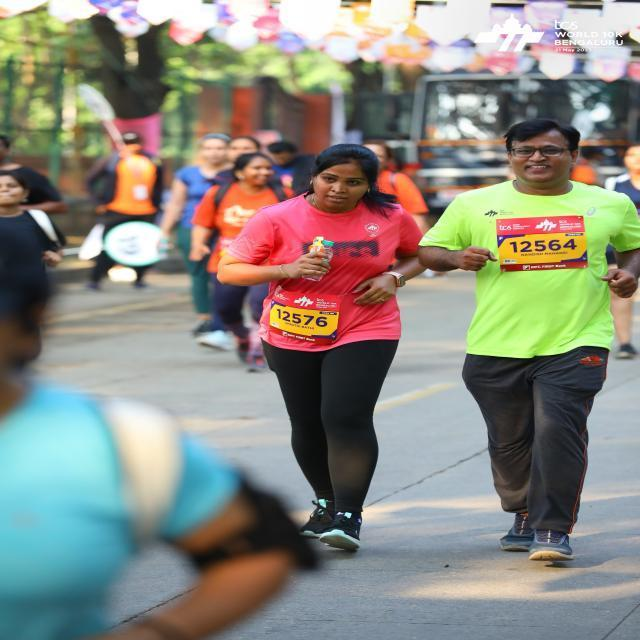dorsal: (492, 217, 590, 273), (272, 286, 341, 347)
